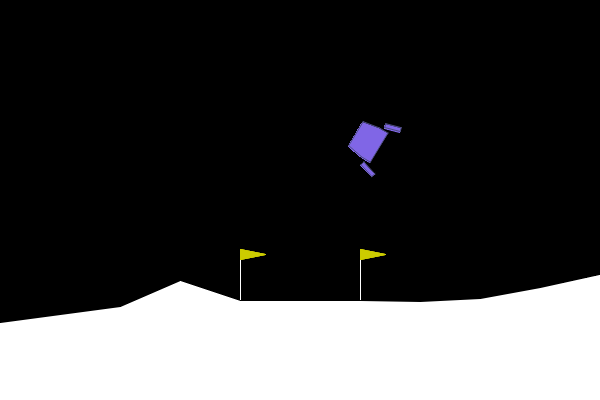lander: (338, 107, 403, 179)
